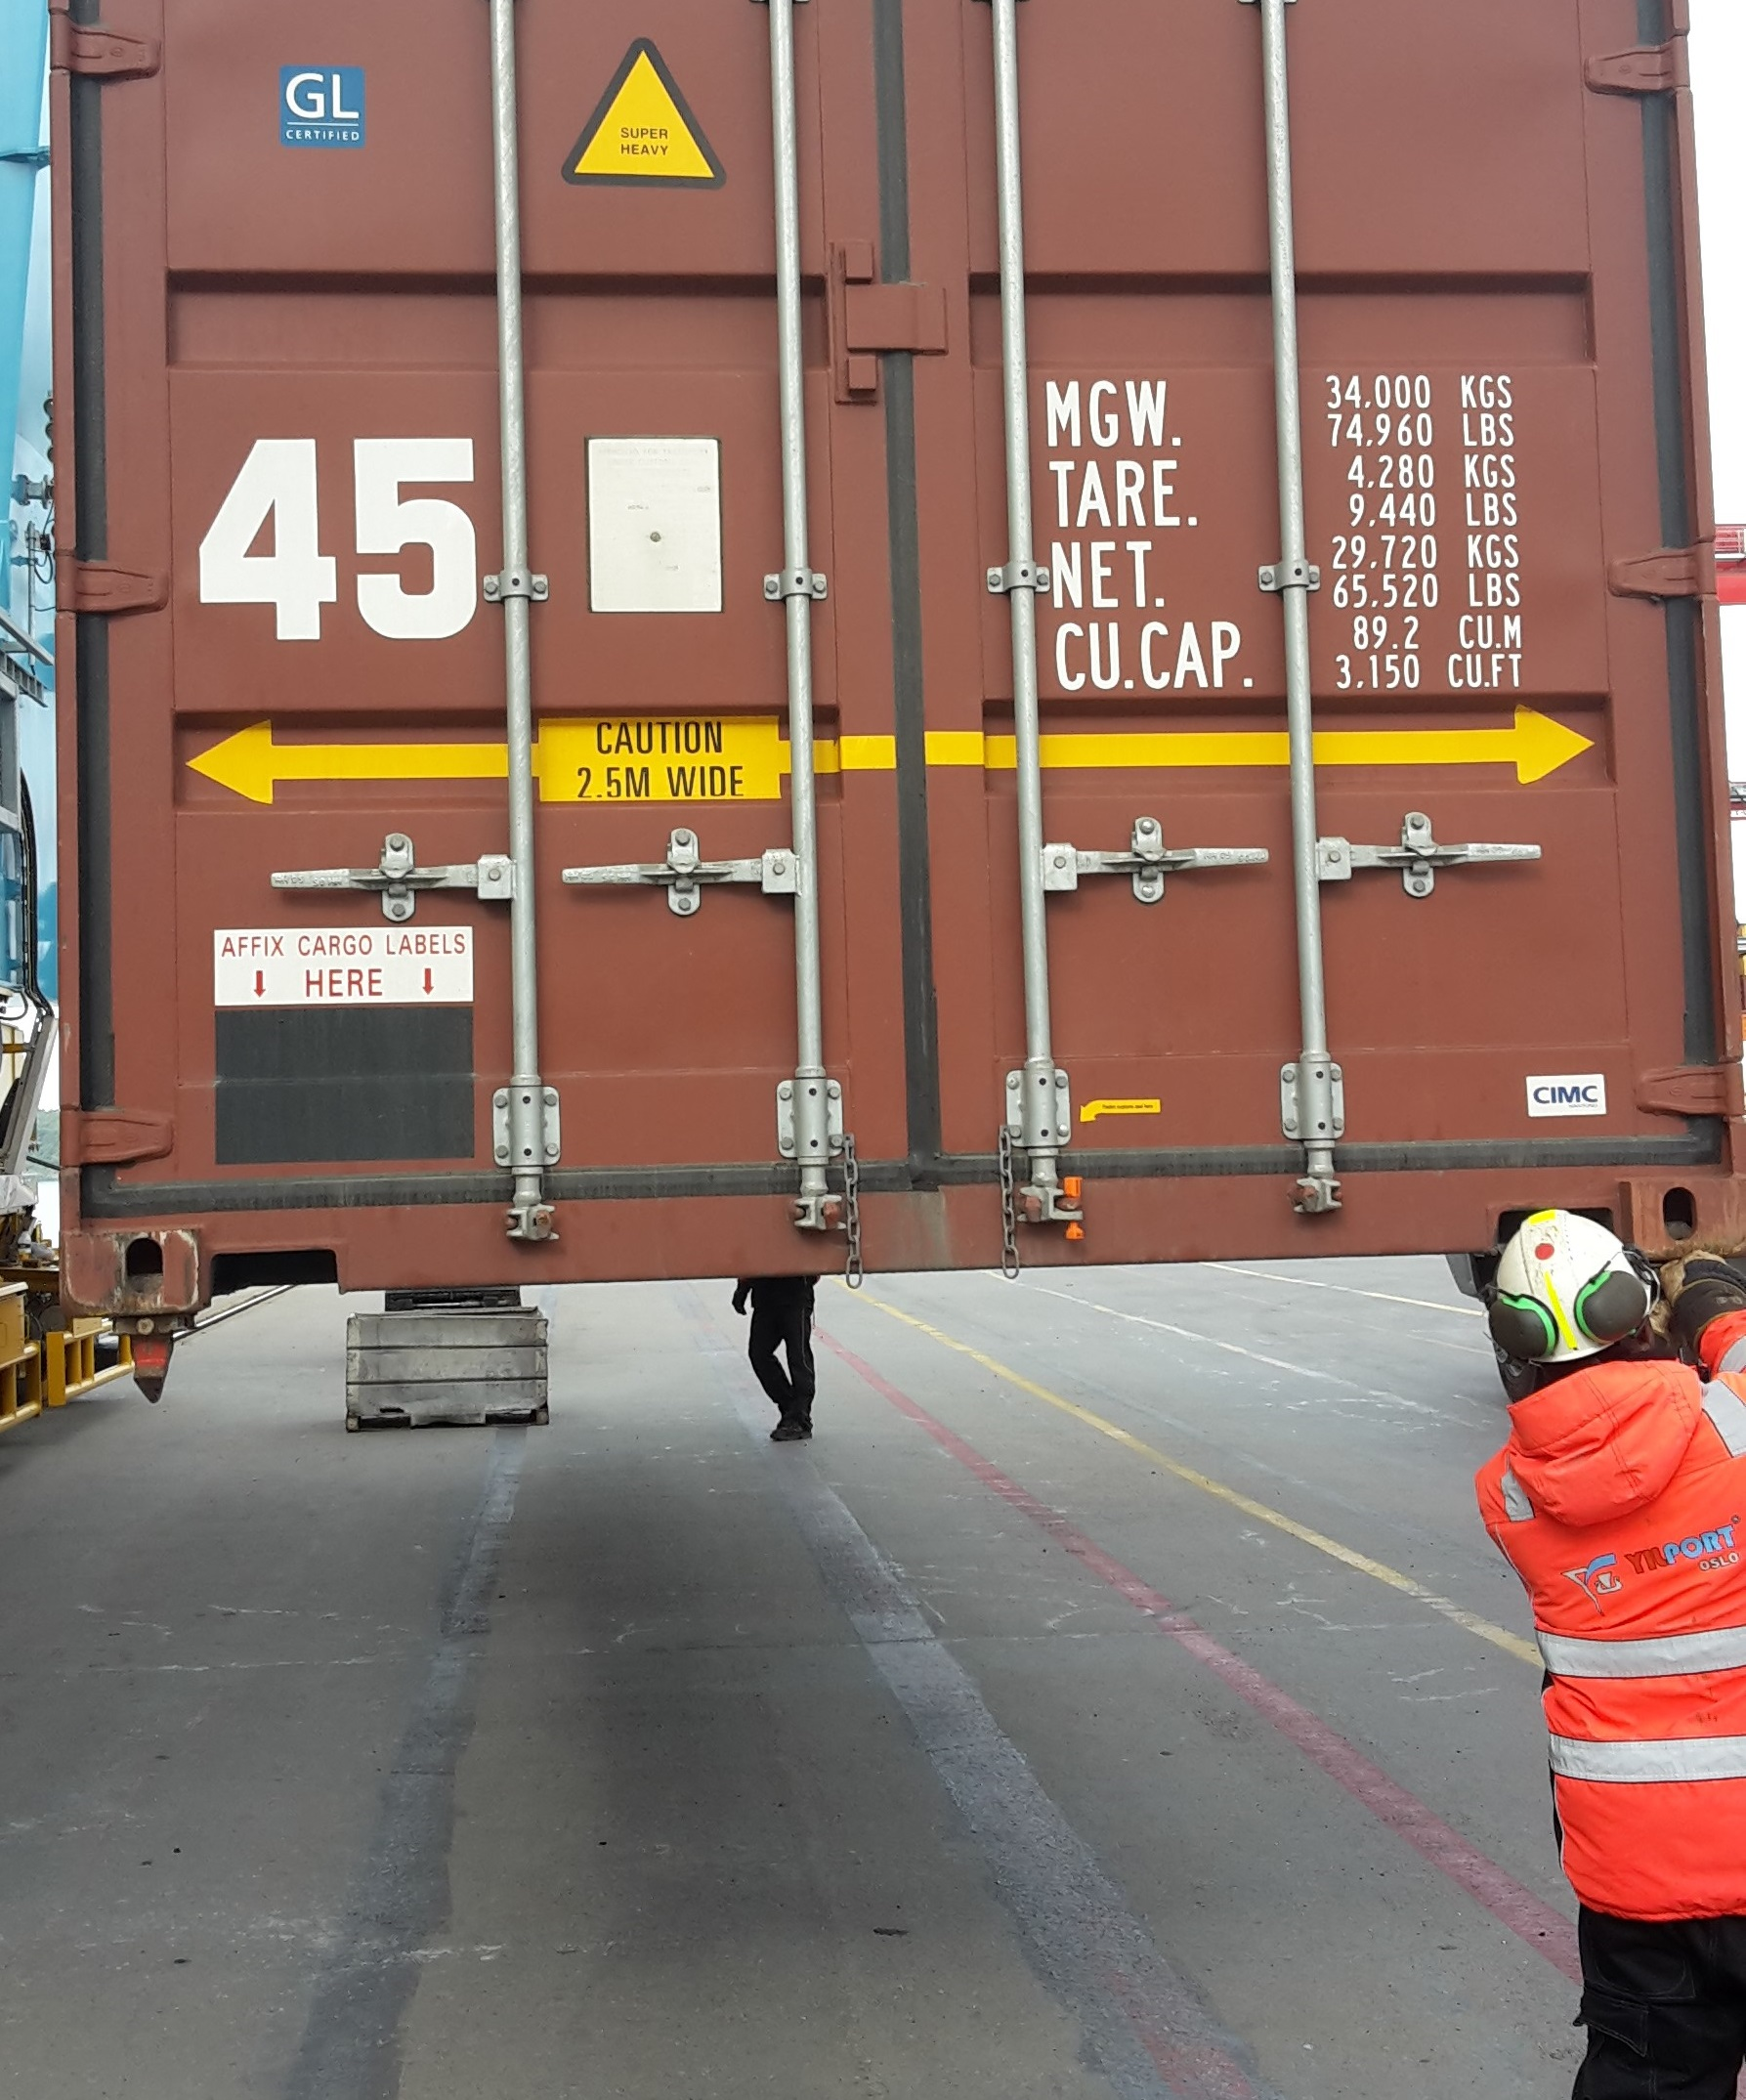container_door: (78, 5, 1716, 1324)
